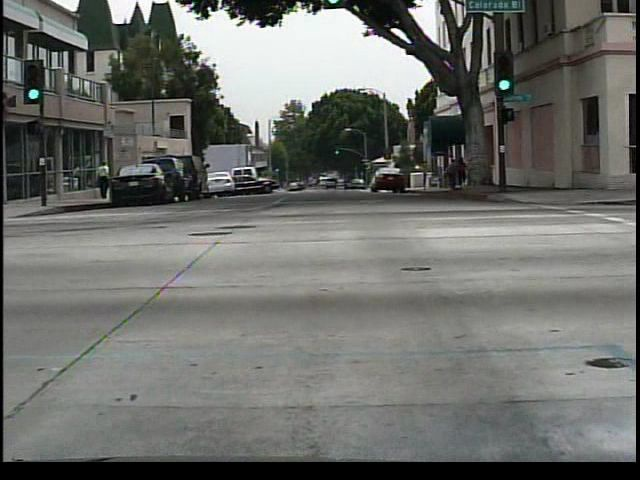person: (453, 152, 478, 201), (97, 155, 112, 204), (442, 159, 460, 193)
